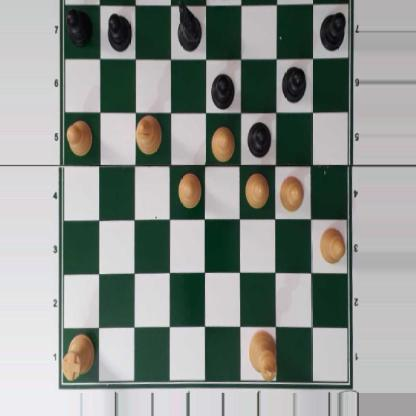black-knight: (175, 0, 201, 51)
black-pawn: (63, 4, 92, 46), (319, 10, 346, 52), (107, 10, 132, 52), (209, 69, 234, 109), (282, 63, 306, 101), (247, 119, 271, 157)
white-bishop: (136, 116, 162, 155)
white-king: (247, 328, 276, 380)
white-pawn: (318, 225, 345, 265), (208, 123, 235, 160), (65, 119, 92, 156), (278, 173, 303, 211), (244, 171, 268, 208), (176, 172, 201, 207)
white-rook: (60, 331, 94, 379)
